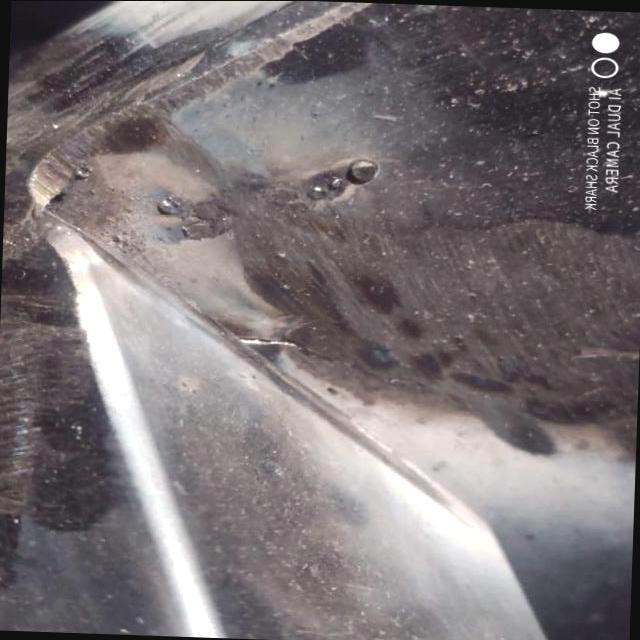defect: (232, 334, 434, 389)
